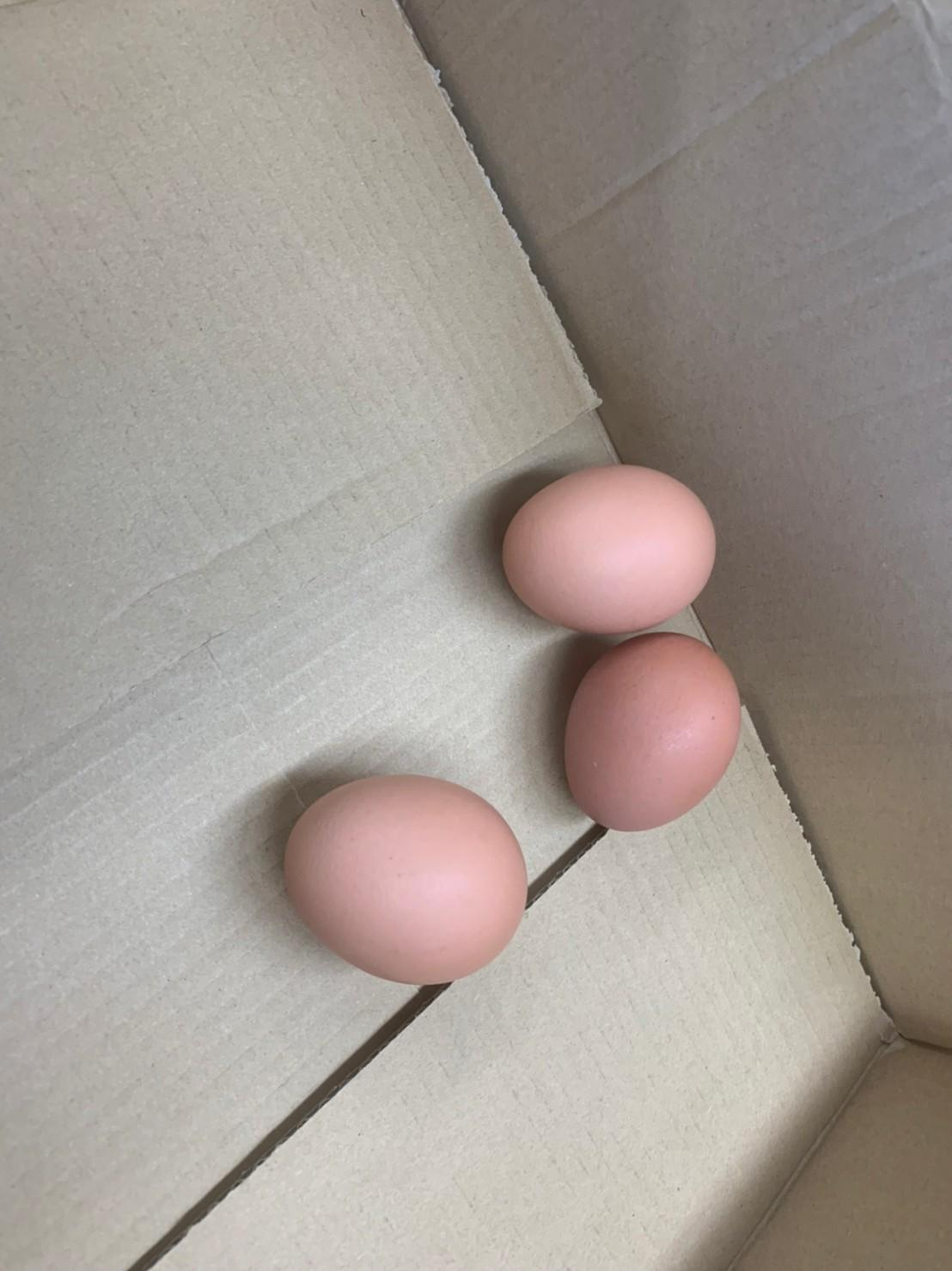egg: (276, 768, 530, 992), (557, 631, 745, 831), (498, 463, 721, 631)
